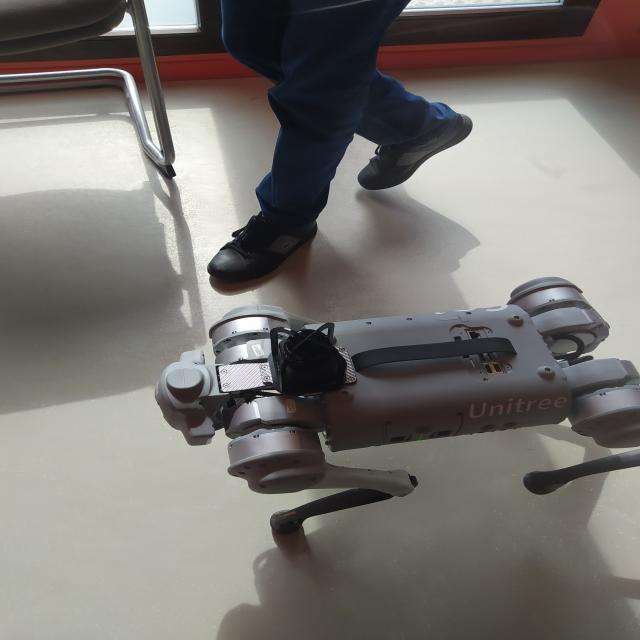unitree-go1-robot: (146, 264, 640, 553)
